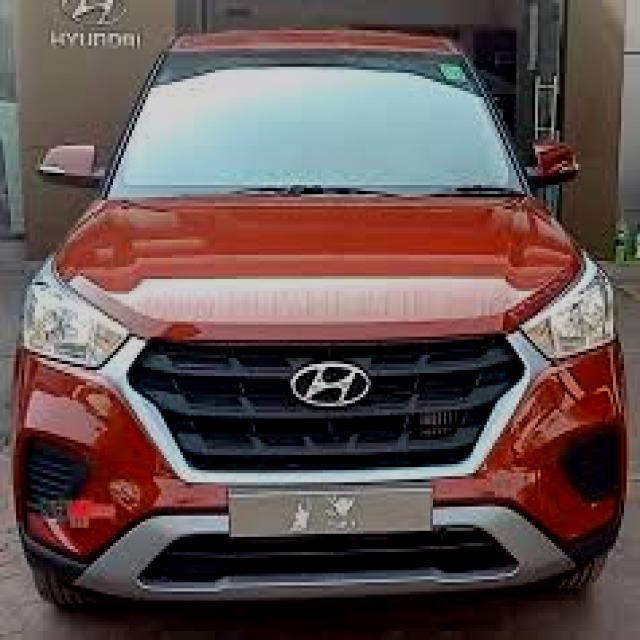SUV: (14, 16, 626, 613)
